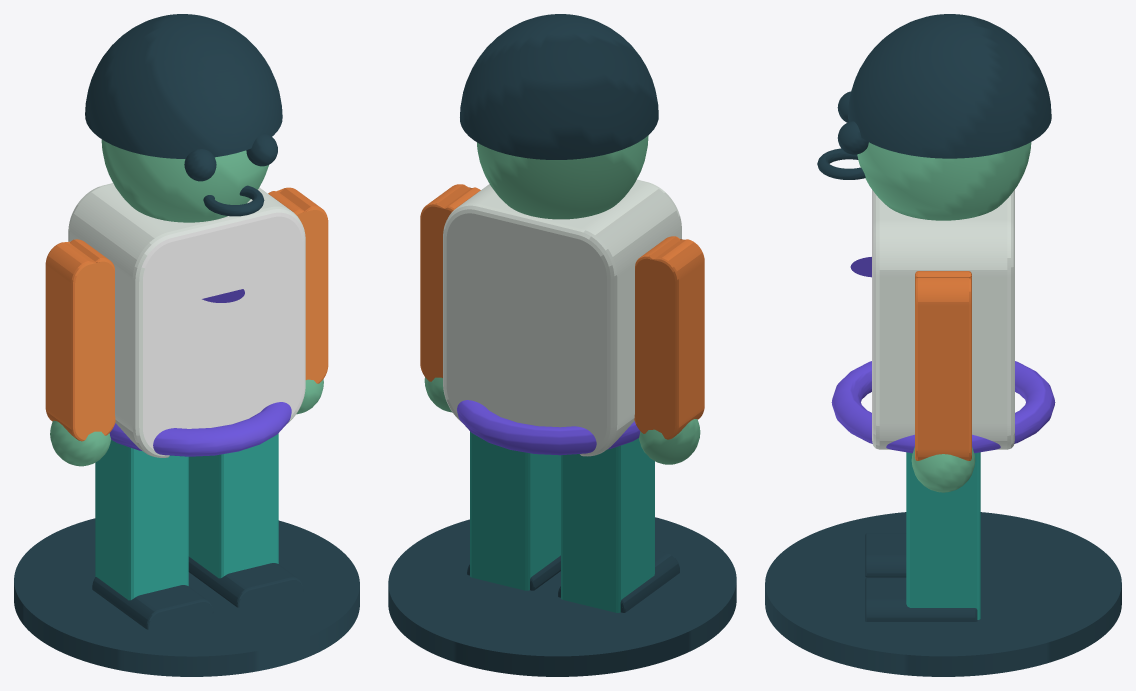
Rendered from 1080_古文观止_滕王阁.glb.
The picture shows the model from 3 angles, left to right: view 1: azimuth 30°, elevation 25°; view 2: azimuth 150°, elevation 25°; view 3: azimuth 270°, elevation 25°; orthographic projection.
Parts seen in each view (by area): view 1: card_1080; view 2: card_1080; view 3: card_1080.
Part boxes in pixels (x1,y1,x2,y2): card_1080: (14, 14, 359, 676); card_1080: (388, 14, 736, 676); card_1080: (765, 14, 1121, 676).
Size of the model in its own units: 0.5319 by 1 by 0.5494.
